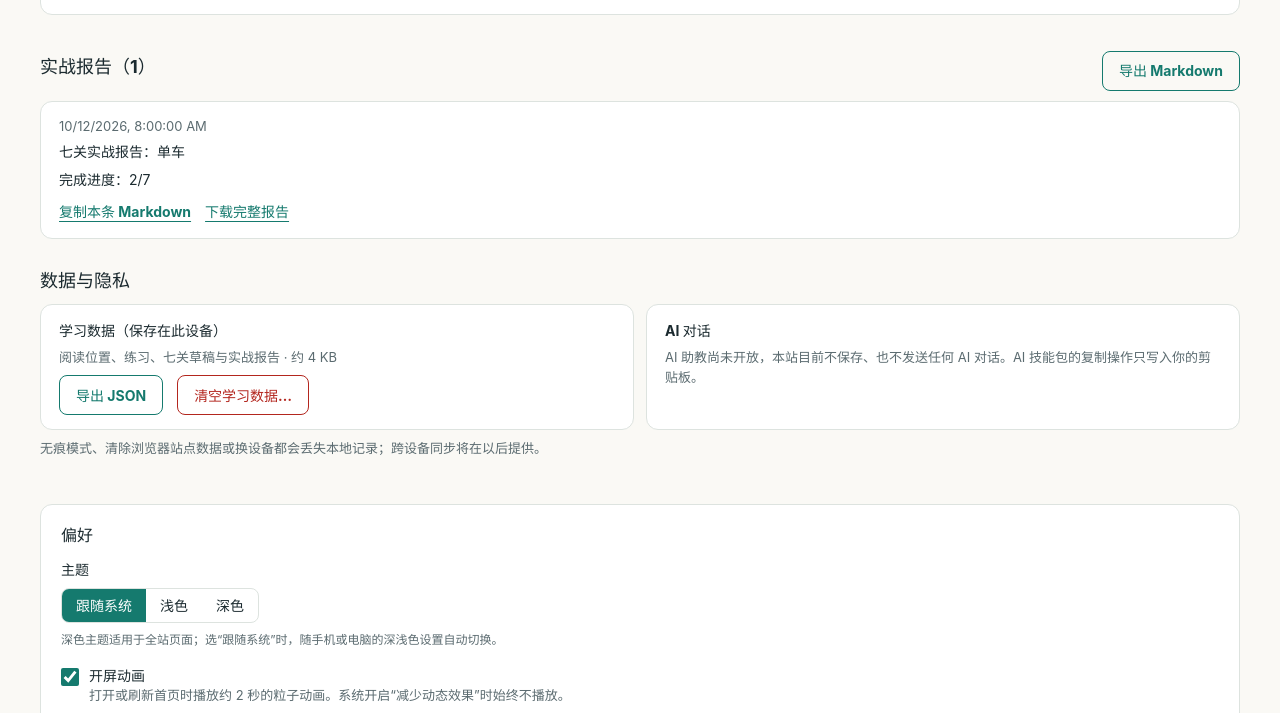
Test case: 学习记录 › exports everything as one JSON file
(page scrolled)
Click the button "导出 JSON": (111, 395) [59,375,163,415]
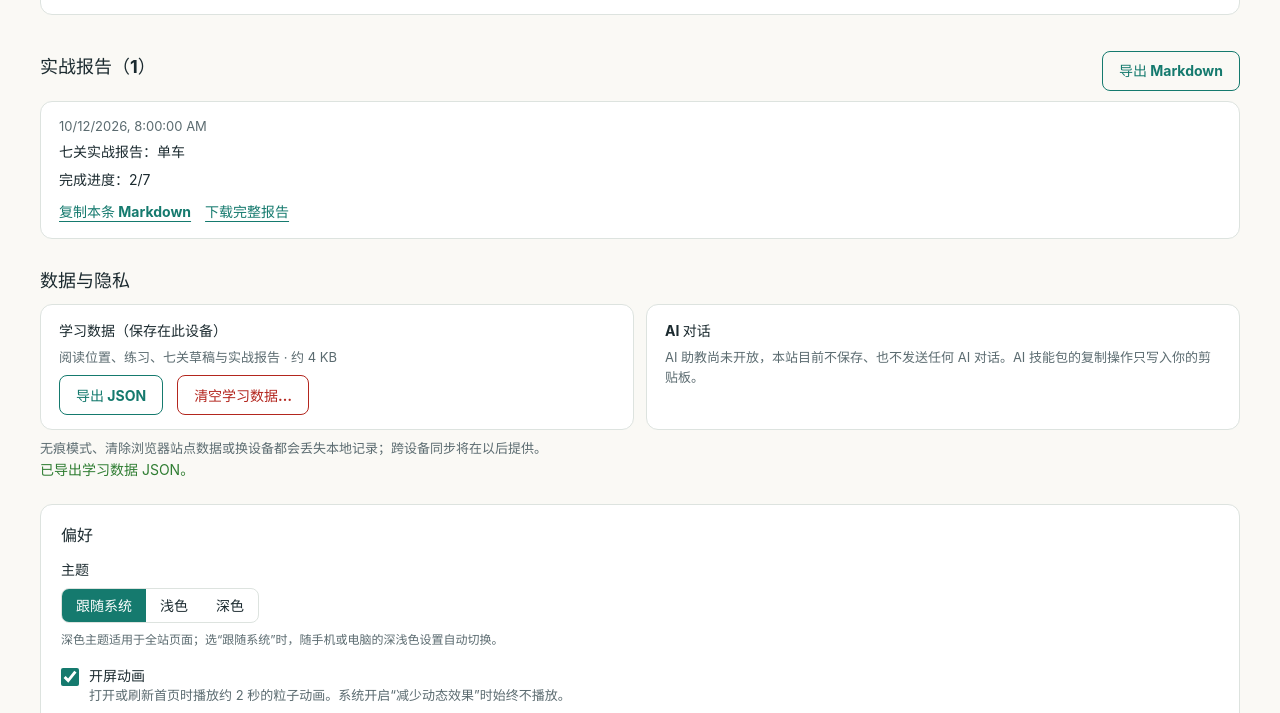
Result: the text "已导出学习数据 JSON。" is shown at [40,461,194,478]
